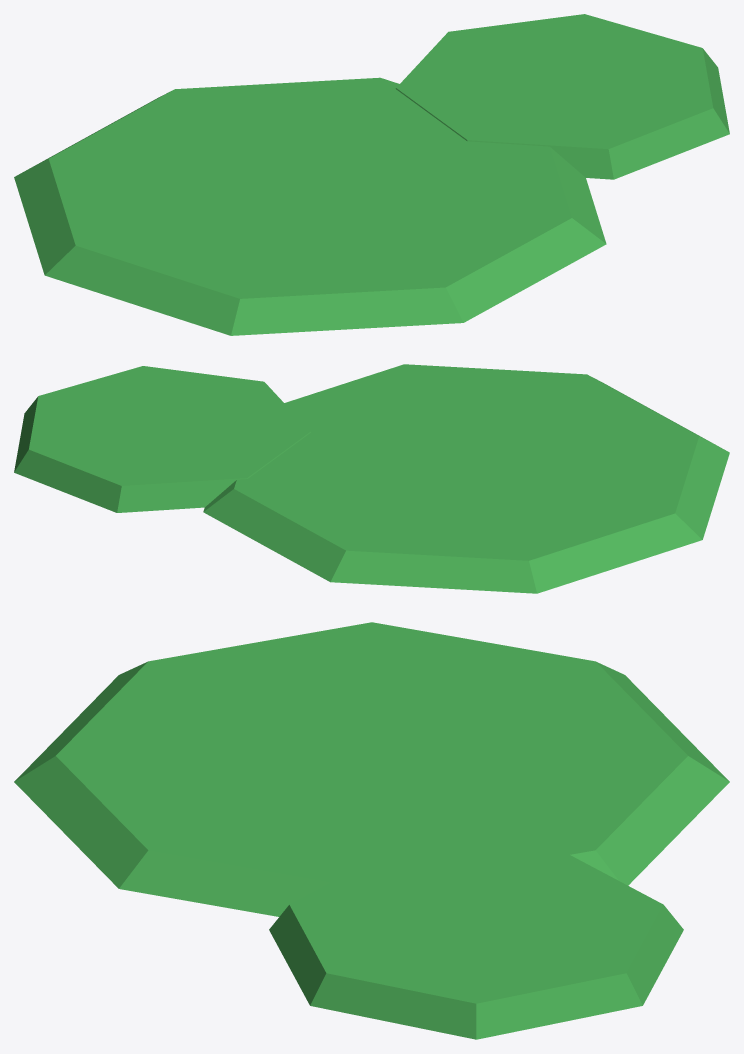
The model's file is Lily_Pad.fbx.
The picture shows the model from 3 angles, top to bottom: view 1: azimuth 30°, elevation 25°; view 2: azimuth 150°, elevation 25°; view 3: azimuth 270°, elevation 25°; orthographic projection. The views are drawn at different scales.
Parts seen in each view (by area): view 1: Lily_Pad; view 2: Lily_Pad; view 3: Lily_Pad.
Boxes of the visible parts, x1,y1,x2,y2 form: Lily_Pad: (14,14,729,335); Lily_Pad: (14,364,729,593); Lily_Pad: (14,622,729,1039).
Size of the model in its own units: 0.9263 by 0.0287 by 0.6852.
